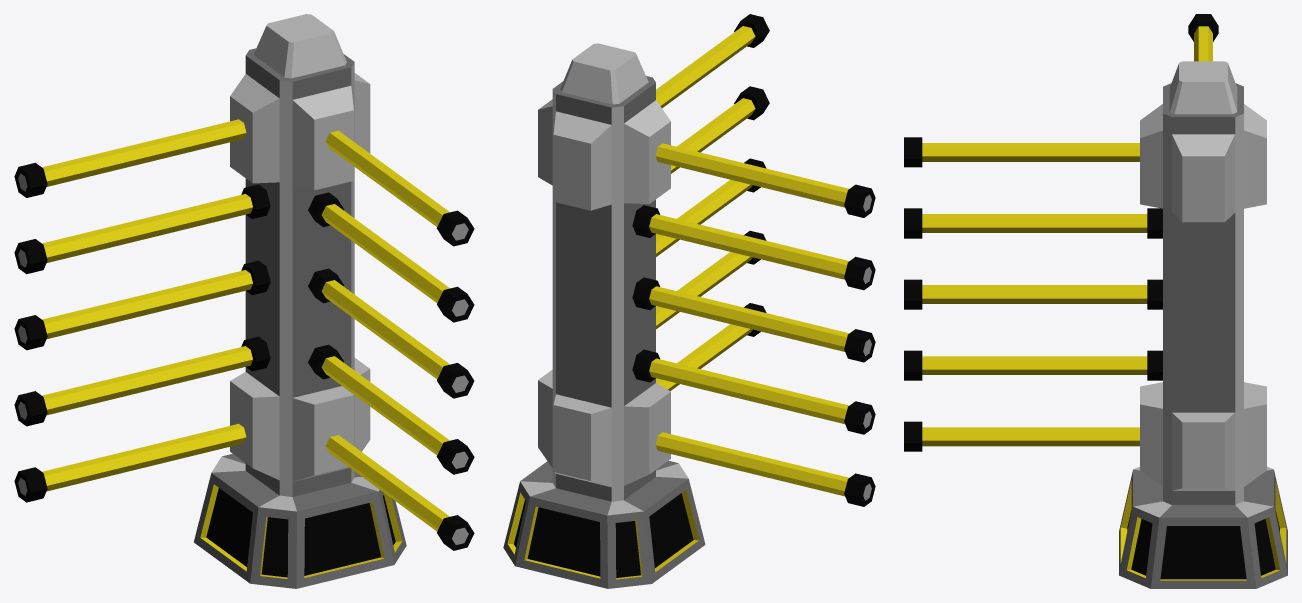
The model's file is Wall2.fbx.
The picture shows the model from 3 angles, left to right: view 1: azimuth 30°, elevation 25°; view 2: azimuth 150°, elevation 25°; view 3: azimuth 270°, elevation 25°; orthographic projection. The views are drawn at different scales.
Parts seen in each view (by area): view 1: Plane.003; view 2: Plane.003; view 3: Plane.003.
Boxes of the visible parts, left/top/right/bottom form: Plane.003: left=14, top=14, right=474, bottom=588; Plane.003: left=503, top=14, right=875, bottom=588; Plane.003: left=904, top=14, right=1287, bottom=588.
Size of the model in its own units: 117 by 162 by 117.
